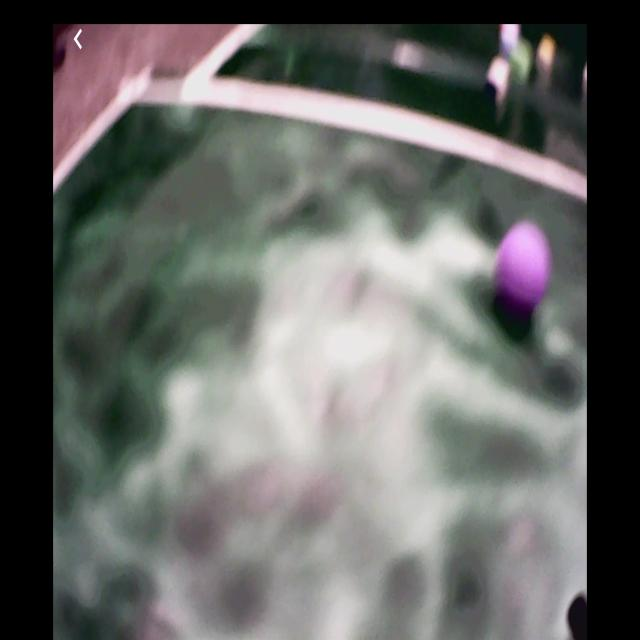ball: (498, 221, 552, 309)
